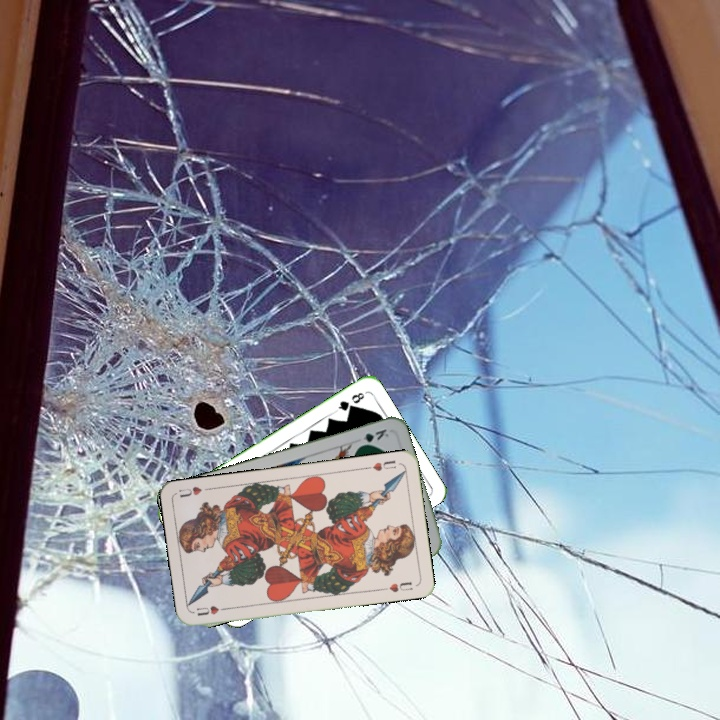G8: (332, 388, 367, 414)
GK: (354, 425, 391, 450)
HU: (362, 456, 398, 474), (193, 602, 231, 619)
